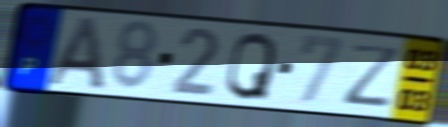2: (166, 25, 221, 97)
7: (297, 33, 348, 109)
8: (108, 18, 164, 95)
A: (43, 15, 108, 92)
Q: (223, 30, 279, 102)
Z: (343, 41, 405, 109)
